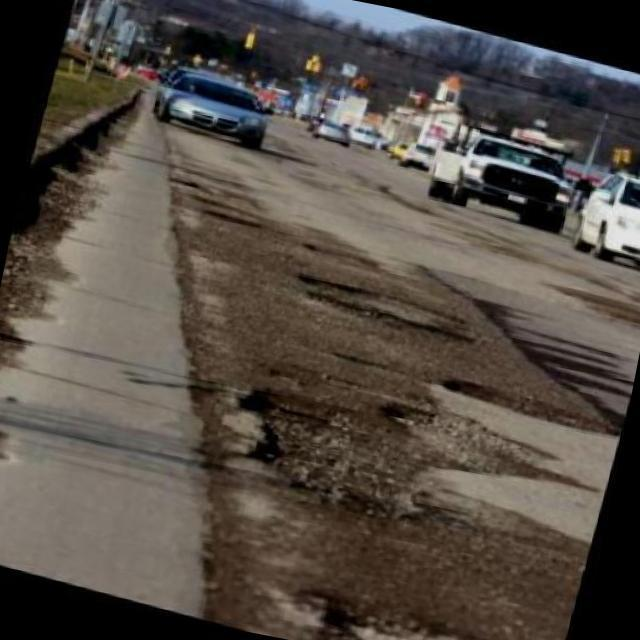Pothole: (235, 389, 466, 523), (441, 378, 617, 439), (320, 597, 456, 640)
